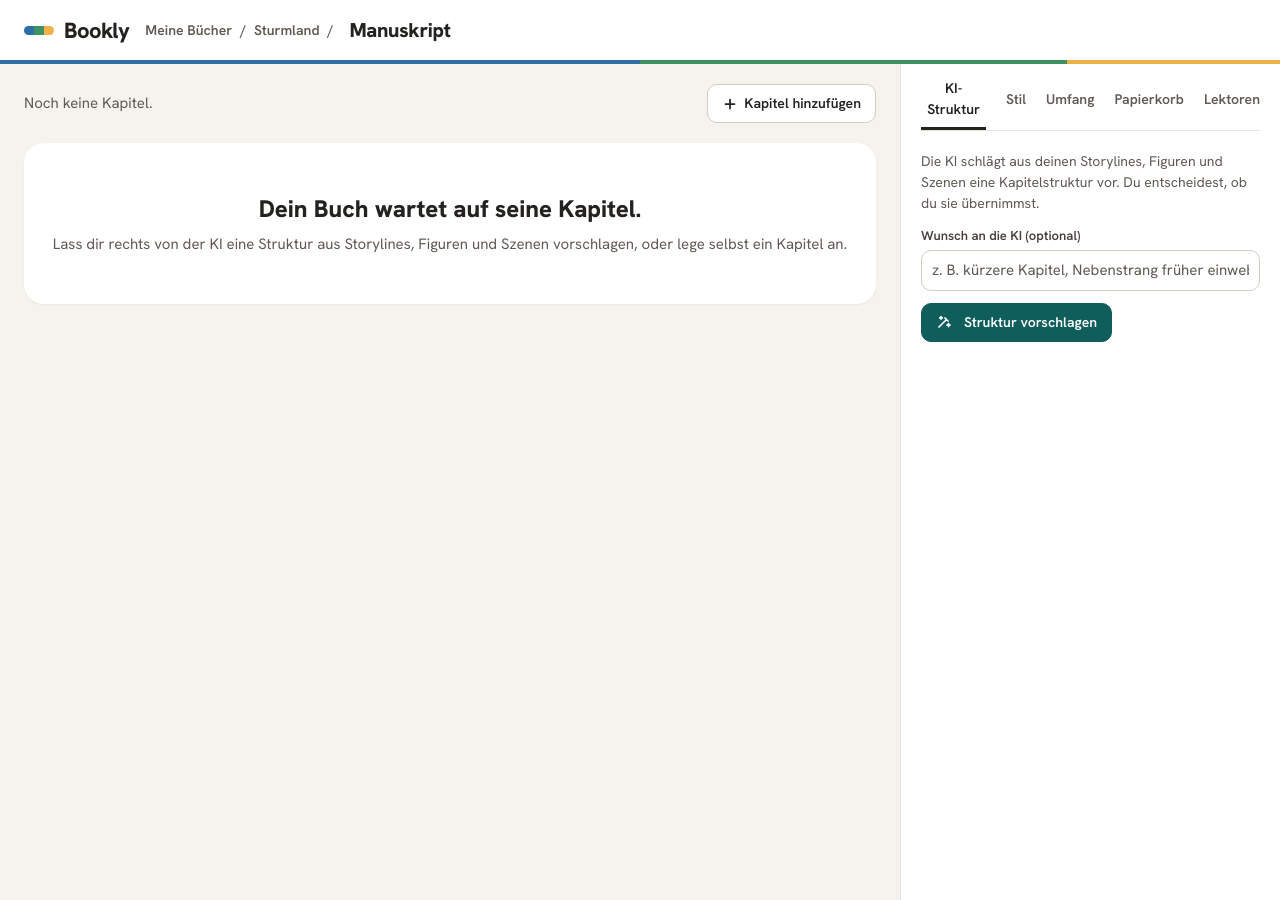
Test case: LengthPanel › saves the range with the exact body
Step 1. Click the tab "Umfang" → point(1070, 99), box 1046,68 -> 1094,130
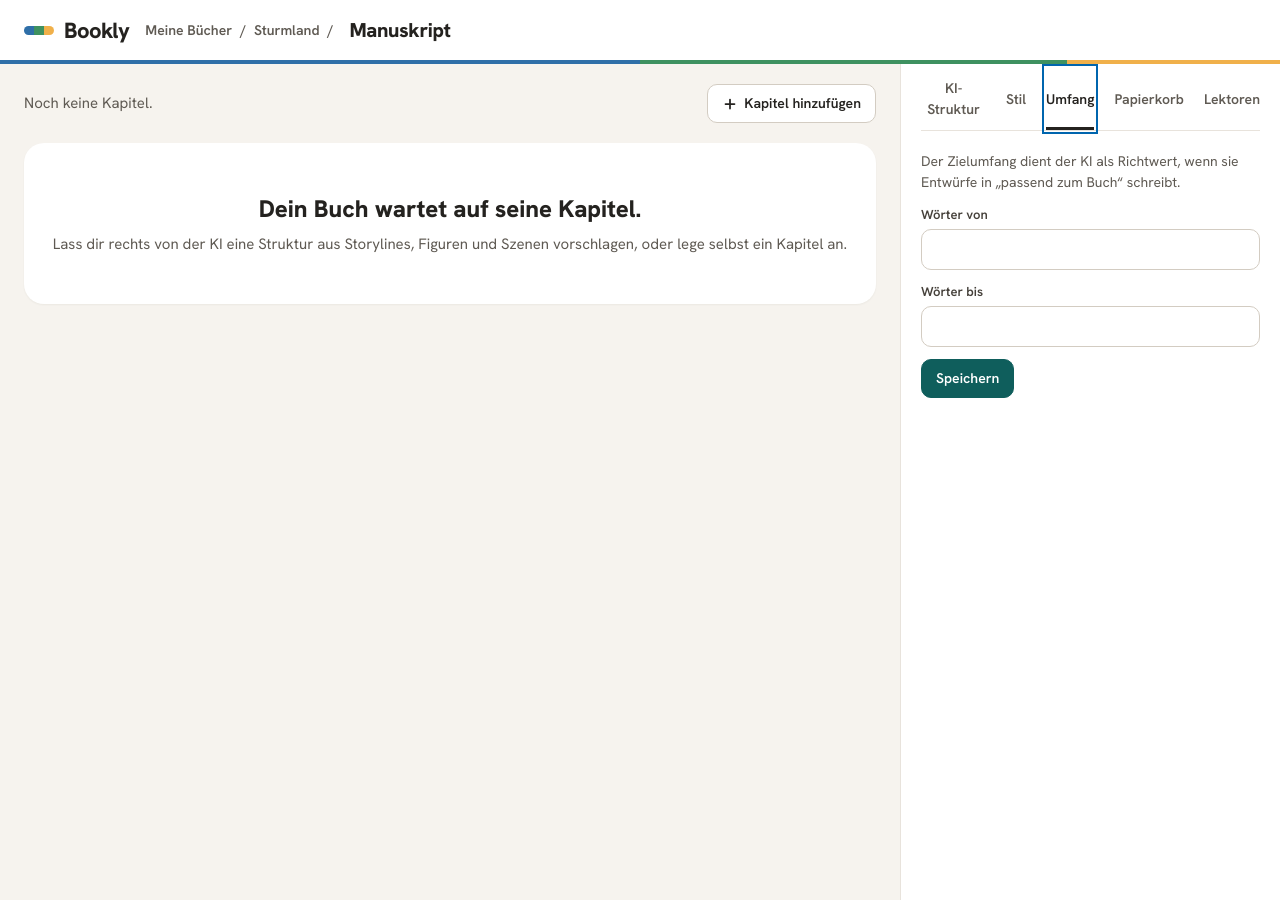
Step 2. Type "50000" into the number field labelled "Wörter von" → point(1090, 250), box 921,229 -> 1260,270
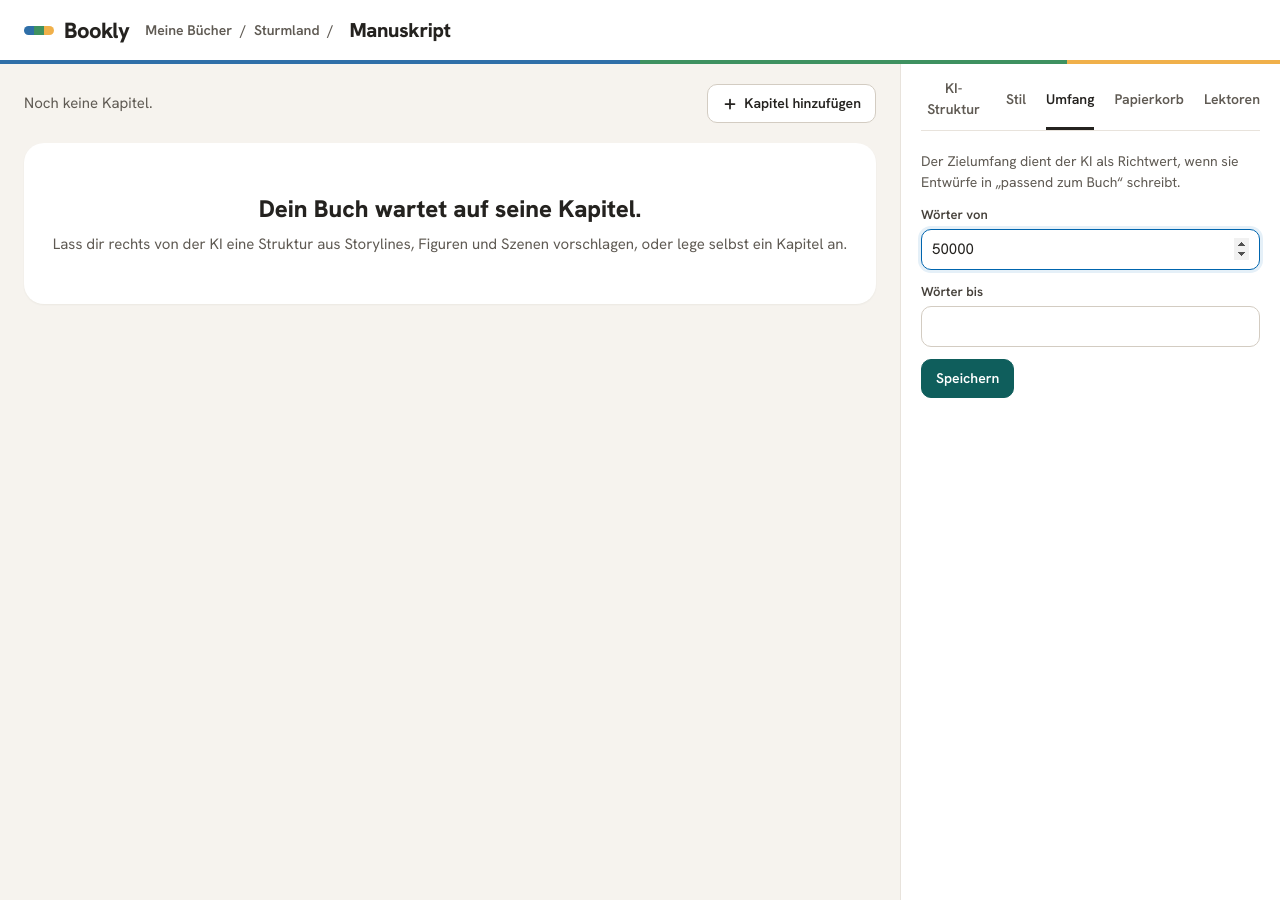
Step 3. Type "80000" into the number field labelled "Wörter bis" → point(1090, 326), box 921,306 -> 1260,347
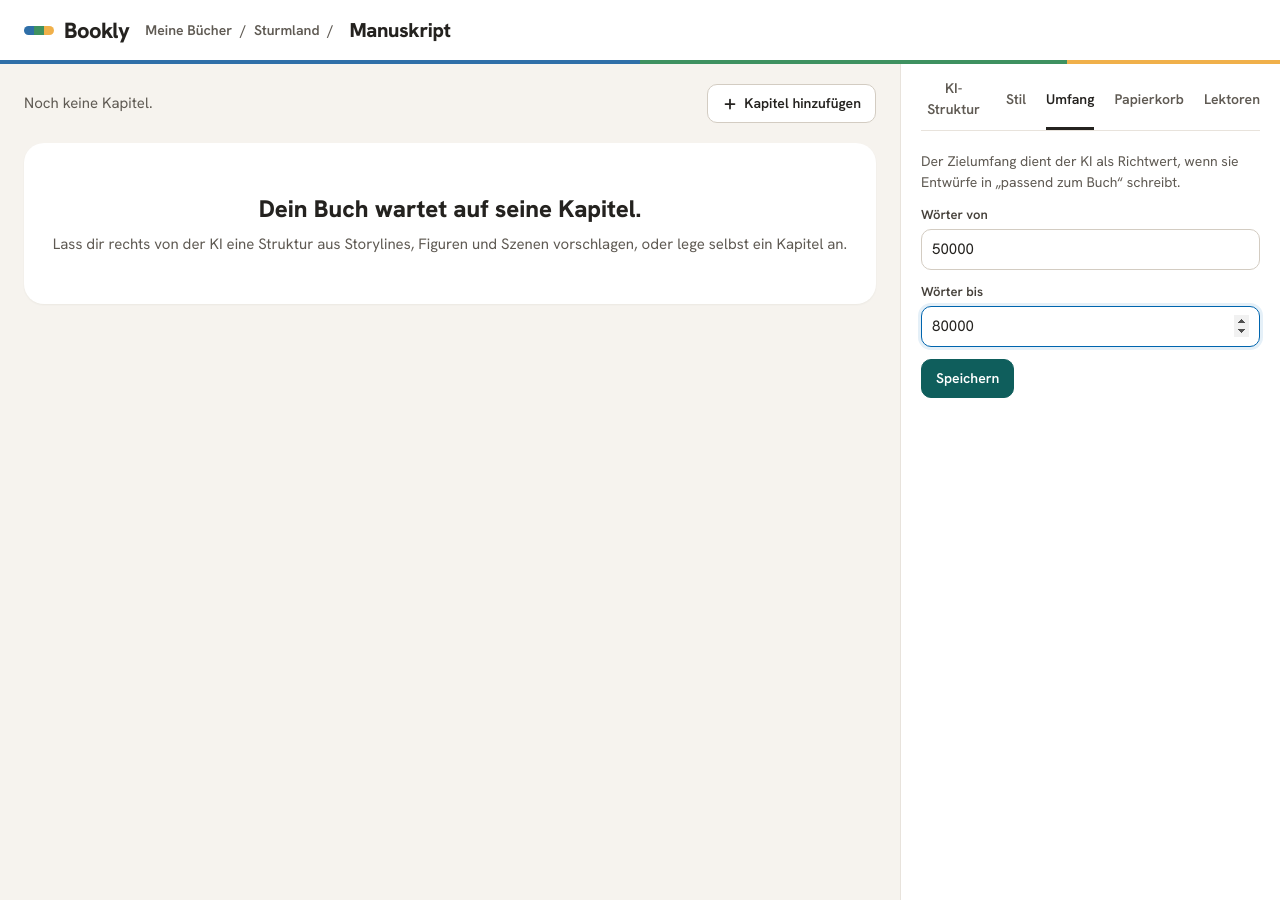
Step 4. Click the button "Speichern" → point(968, 378), box 921,359 -> 1014,398
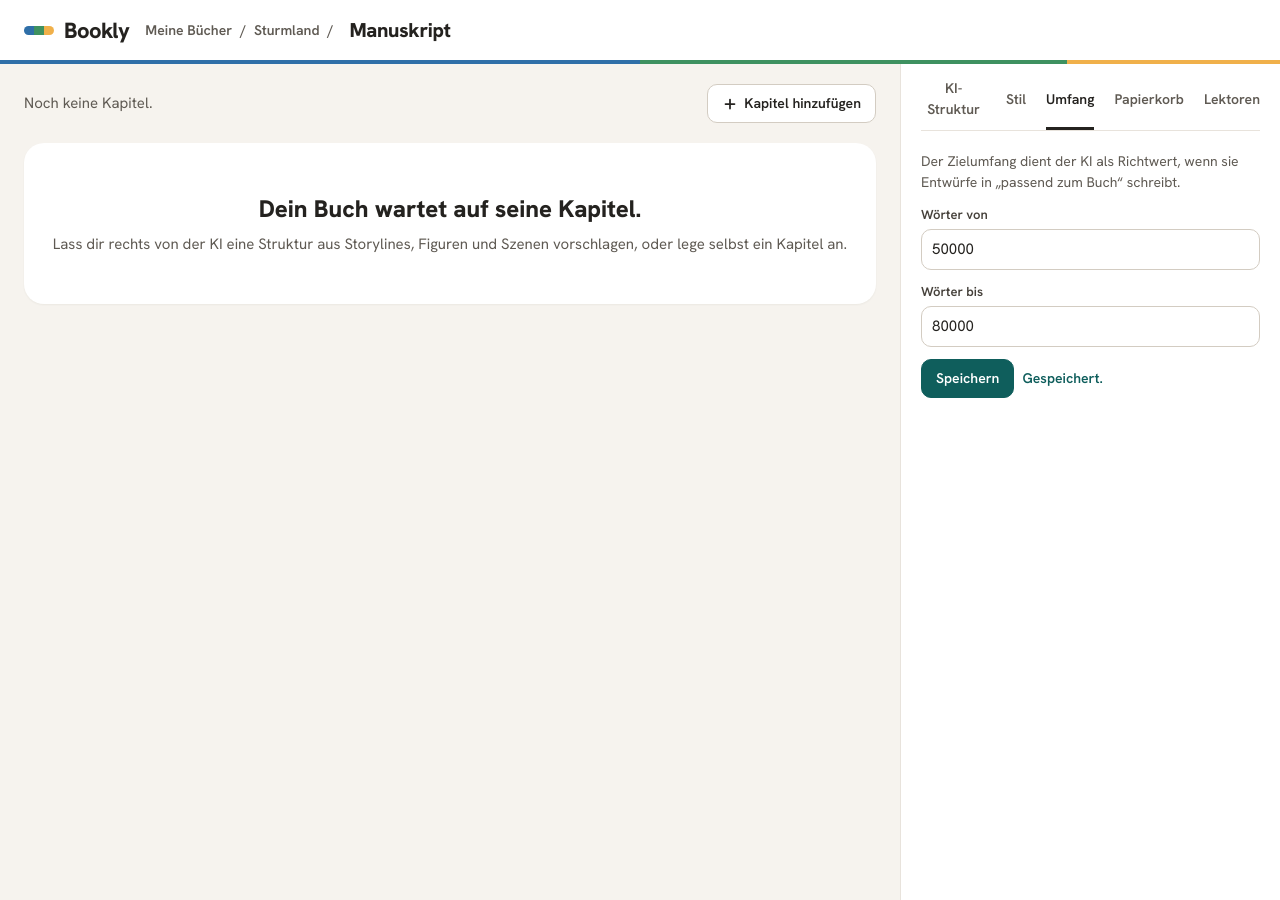
expect the message "Gespeichert." is shown: met, box 1022,368 -> 1103,389
